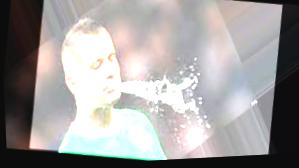spitting: (20, 0, 288, 166)
